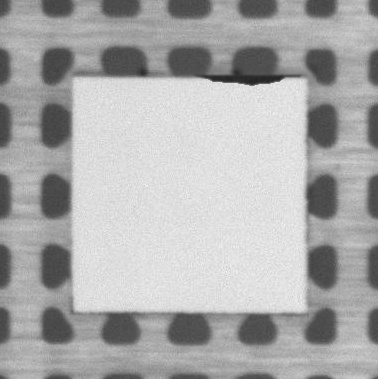DIE_BROKEN: (203, 72, 290, 87)
